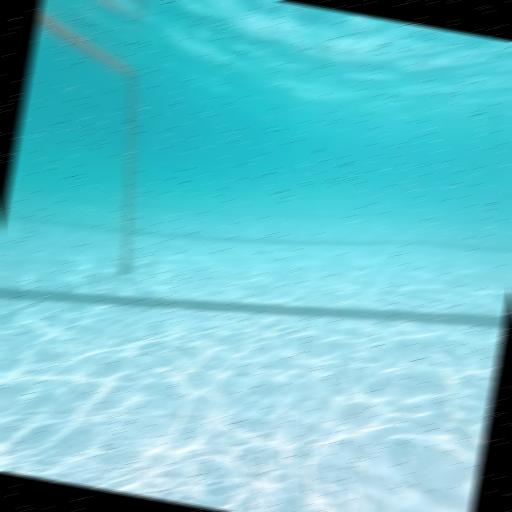gate: (0, 8, 195, 277)
